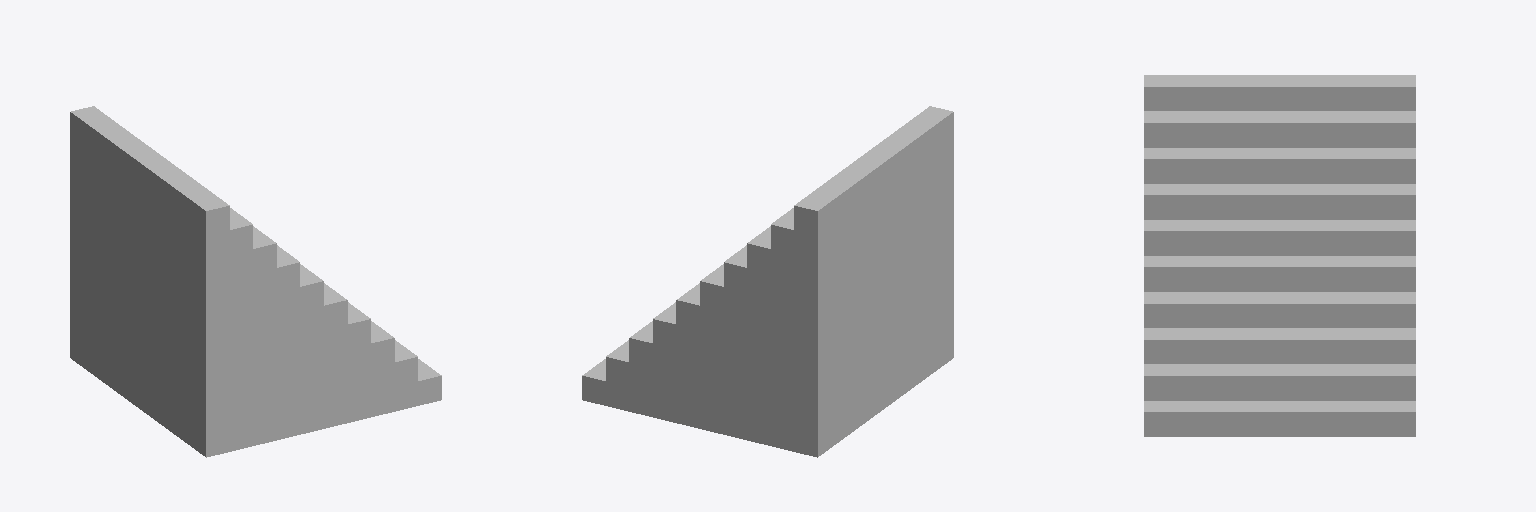
The model's file is Simple_Stair.obj.
3 renders of one model, left to right at view 1: azimuth 30°, elevation 25°; view 2: azimuth 150°, elevation 25°; view 3: azimuth 270°, elevation 25°, orthographic.
Visible parts, largest first — view 1: Simple_Stair_Cube; view 2: Simple_Stair_Cube; view 3: Simple_Stair_Cube.
Part boxes in pixels (bbox=[...]): Simple_Stair_Cube: bbox=[70, 106, 441, 457]; Simple_Stair_Cube: bbox=[582, 106, 953, 457]; Simple_Stair_Cube: bbox=[1144, 75, 1415, 436].
Size of the model in its own units: 1 by 1 by 1.